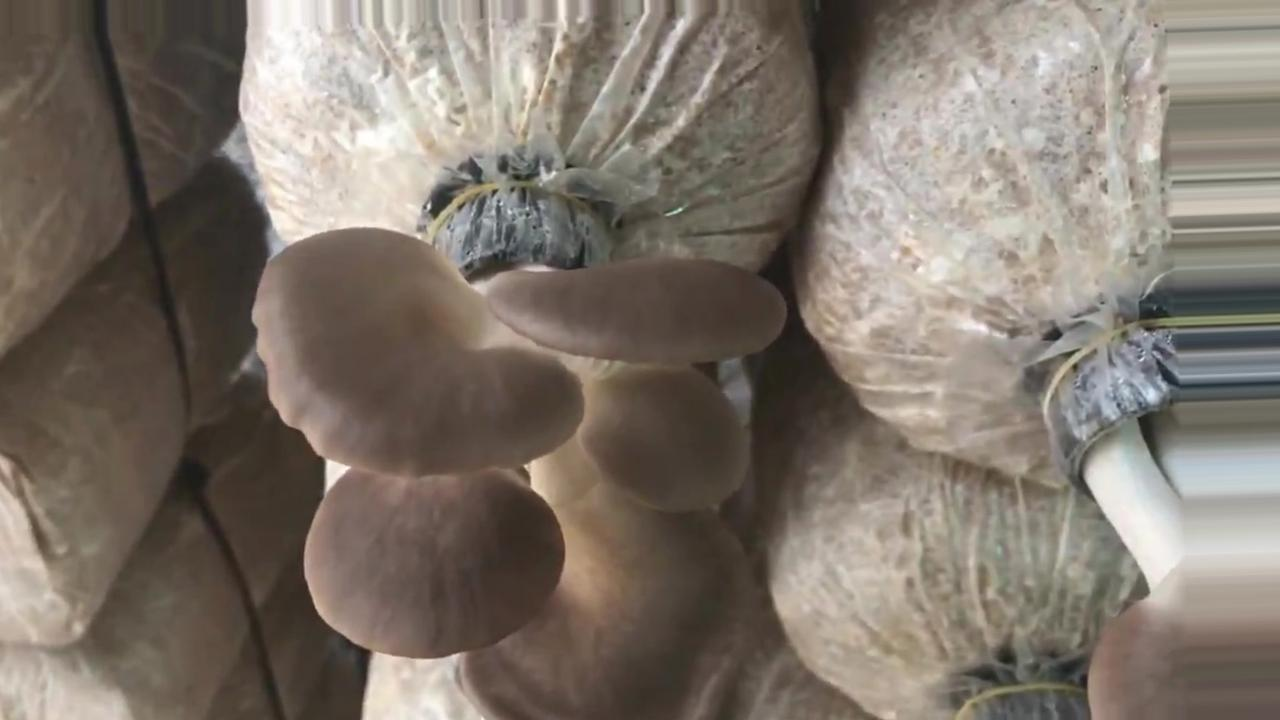nam: (250, 184, 787, 720), (1048, 317, 1280, 720)
